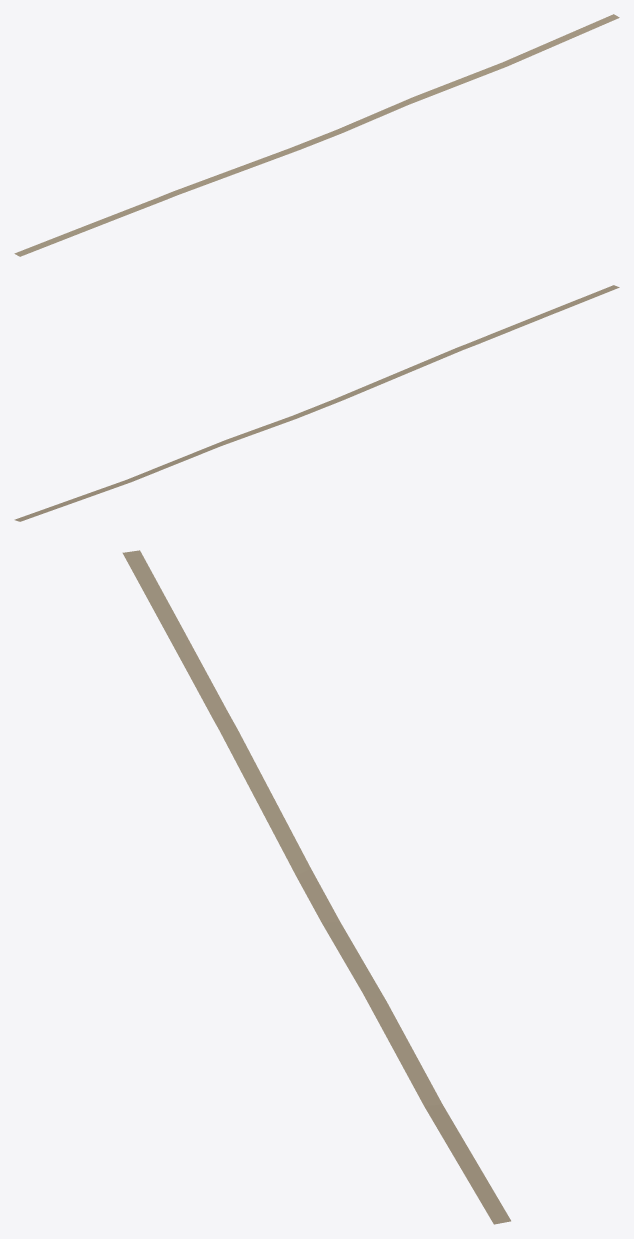
File: farm_6_-3_track.glb
The picture shows the model from 3 angles, top to bottom: view 1: azimuth 30°, elevation 25°; view 2: azimuth 210°, elevation 25°; view 3: azimuth 270°, elevation 25°; orthographic projection. The views are drawn at different scales.
Parts seen in each view (by area): view 1: geometry_0; view 2: geometry_0; view 3: geometry_0.
Part boxes in pixels (x1,y1,x2,y2): geometry_0: [14, 14, 619, 256]; geometry_0: [14, 285, 619, 521]; geometry_0: [122, 550, 510, 1224].
Bounding box in the file's own units: 291 × 2.65 × 70.6.
